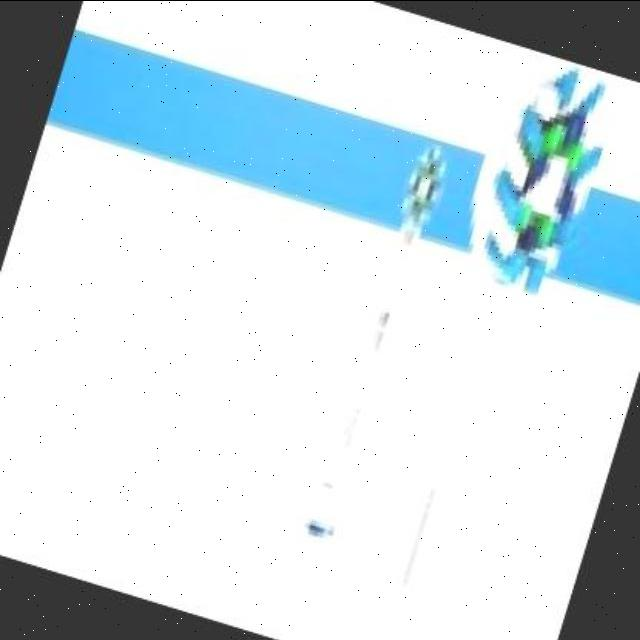toothbrush: (317, 42, 638, 640)
